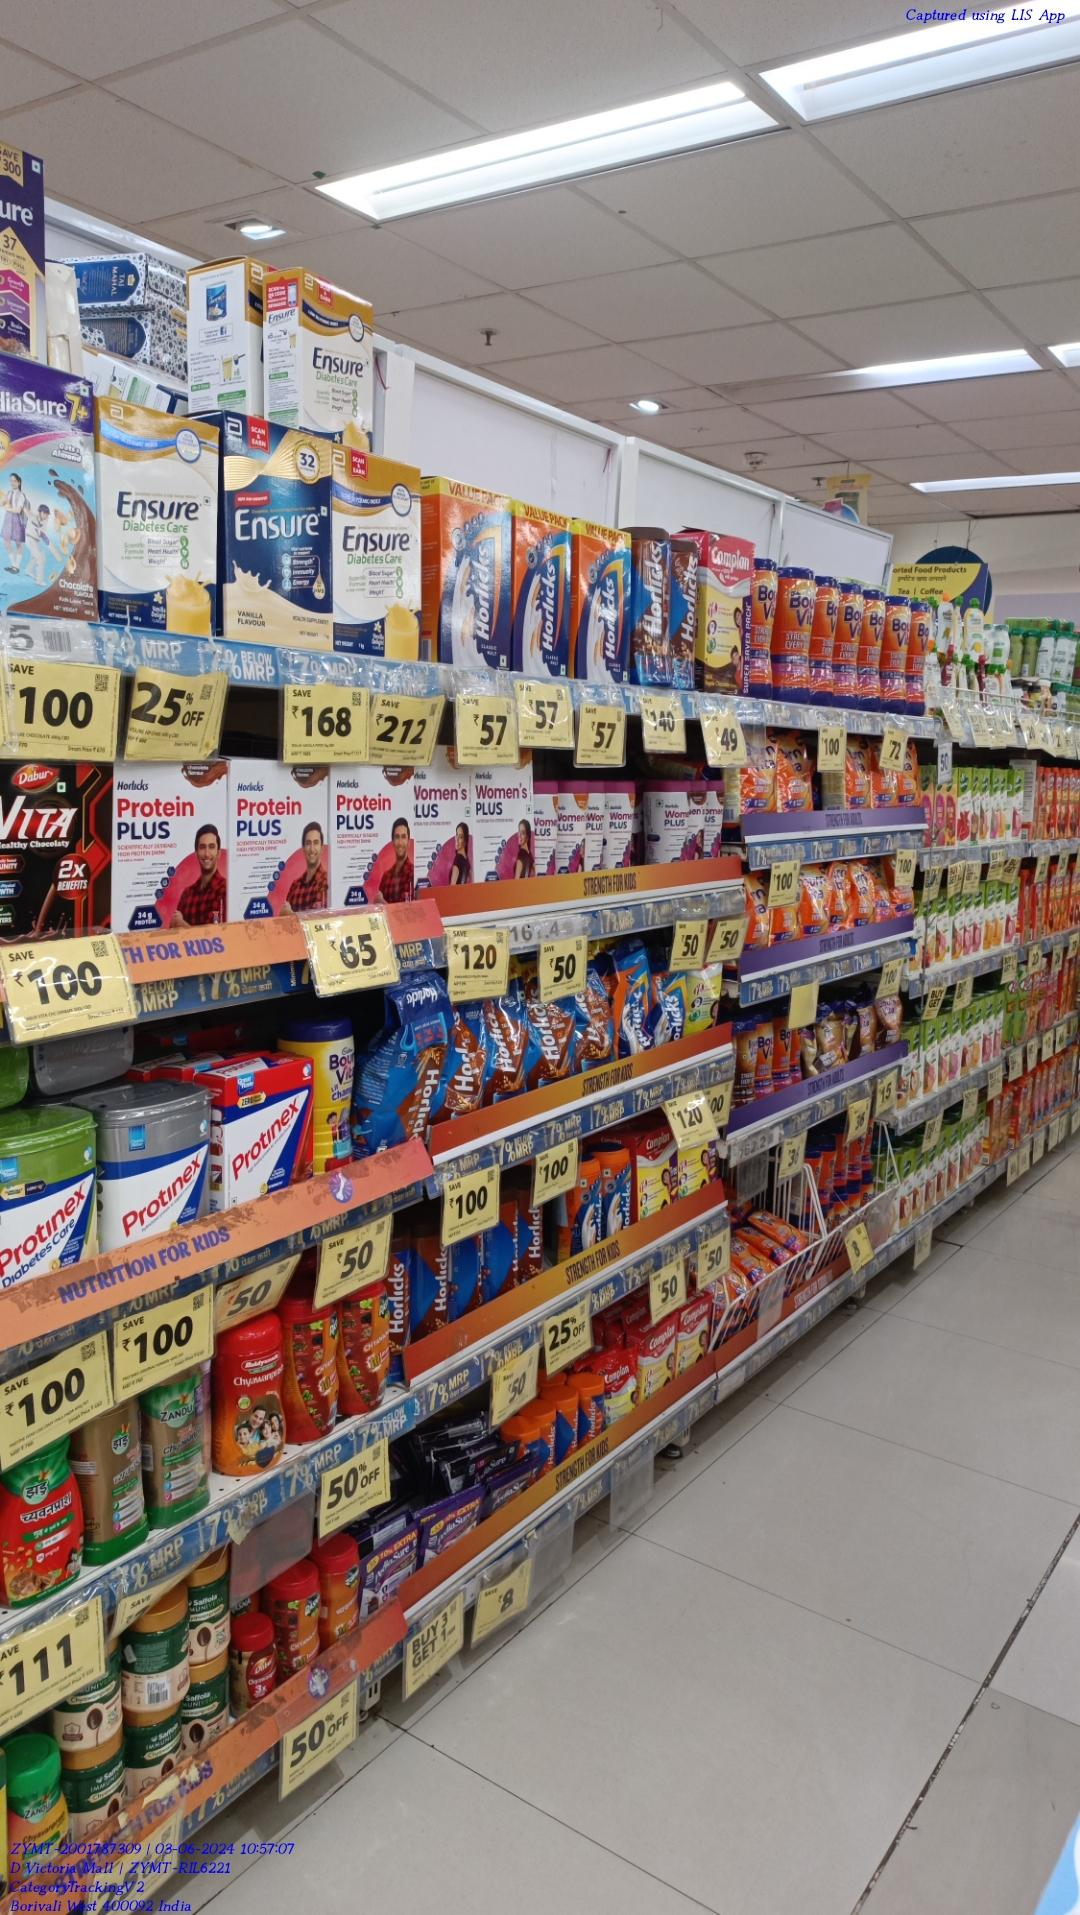BOURN_VITA_CHAMPS_500_G_JAR: (320, 1015, 355, 1169)
BOURN_VITA_FIVE_STAR_MAGIC_500_G_JAR: (734, 1017, 759, 1107)
COMPLAN_CHOCOLATE_500_GMS_PACK: (0, 760, 112, 942)
ENSURE_VANILLA_400_G_PACK: (225, 416, 331, 647)
PEDIASURE_7_PLUS_CHOCOLATE_400_G_PACK: (0, 350, 99, 616)
PROTINEX_ORIGINAL_400_G_JAR: (105, 1084, 213, 1255)
